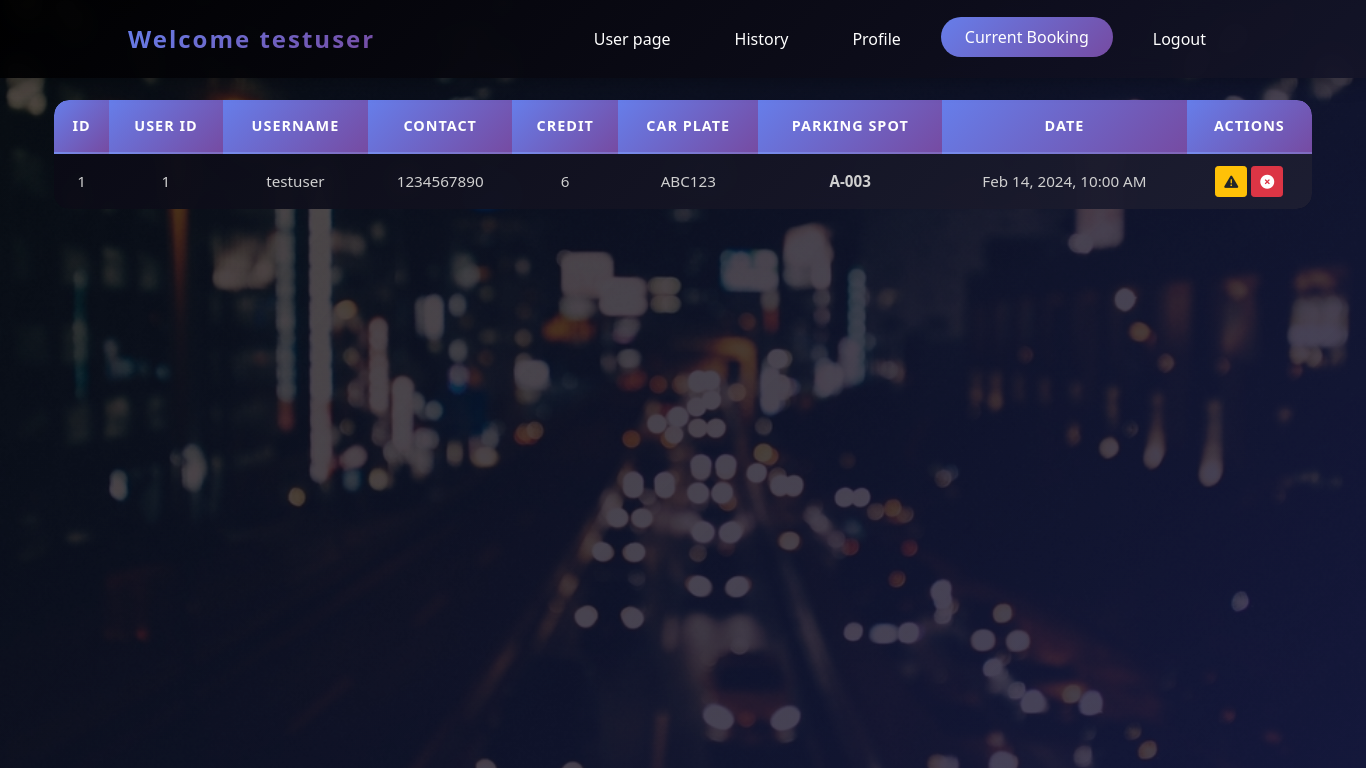
Test: CurrentBooking › should show confirmation dialog when cancel booking is clicked
Click the button titled "Cancel Booking".
click(1267, 181)  # box [1251, 166, 1283, 197]
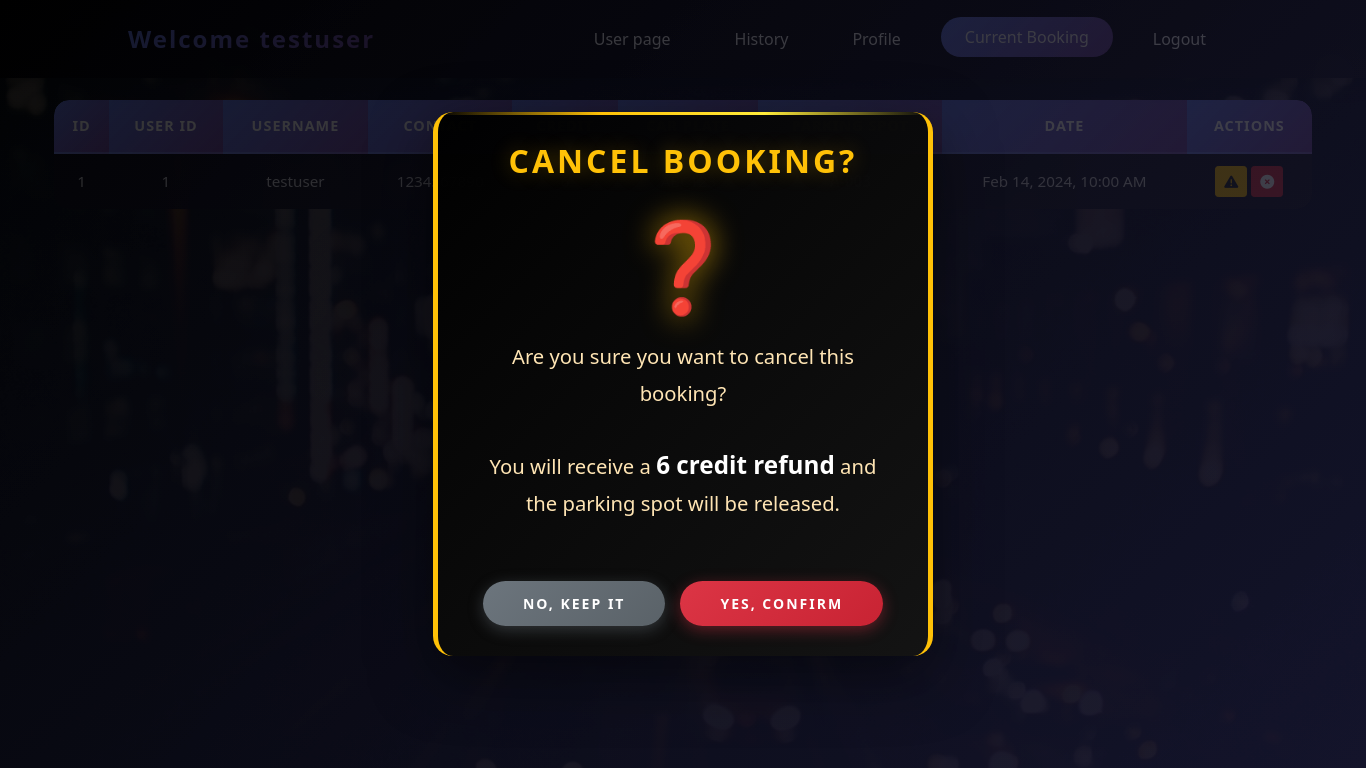
Check: the heading "Cancel Booking?" is shown, box [478, 142, 888, 180]
